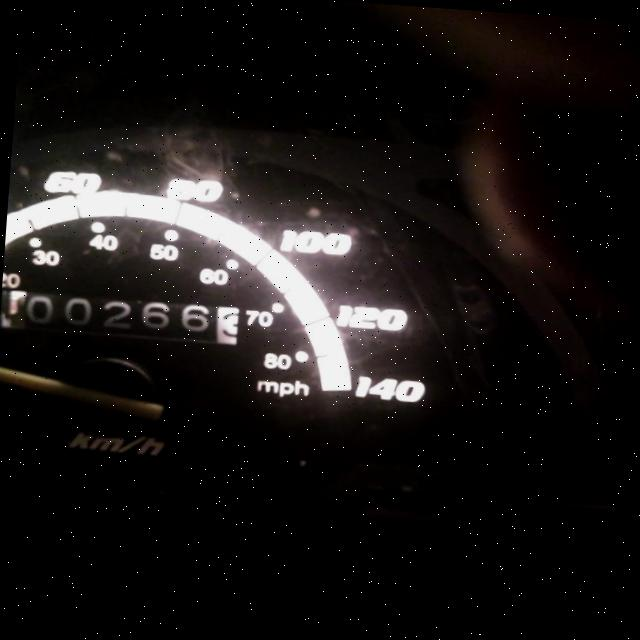odometer: (0, 283, 244, 345)
